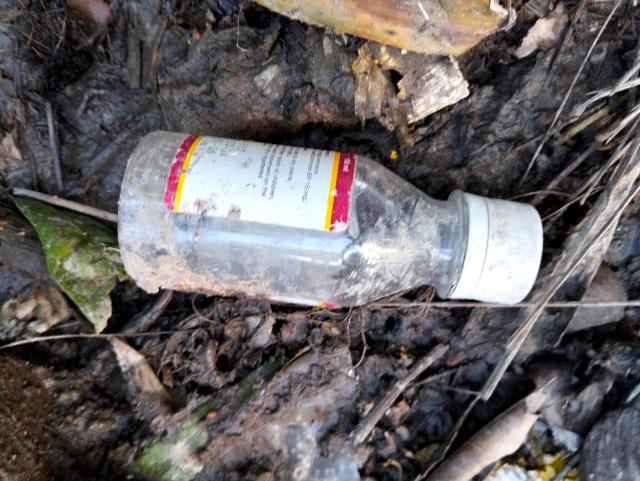bottle: (118, 116, 550, 311)
